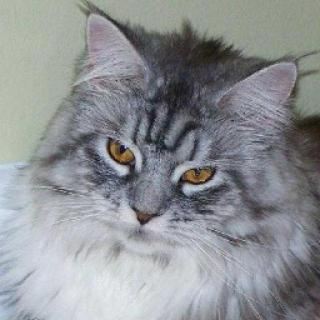cat: (42, 9, 302, 280)
nose: (123, 182, 175, 233)
